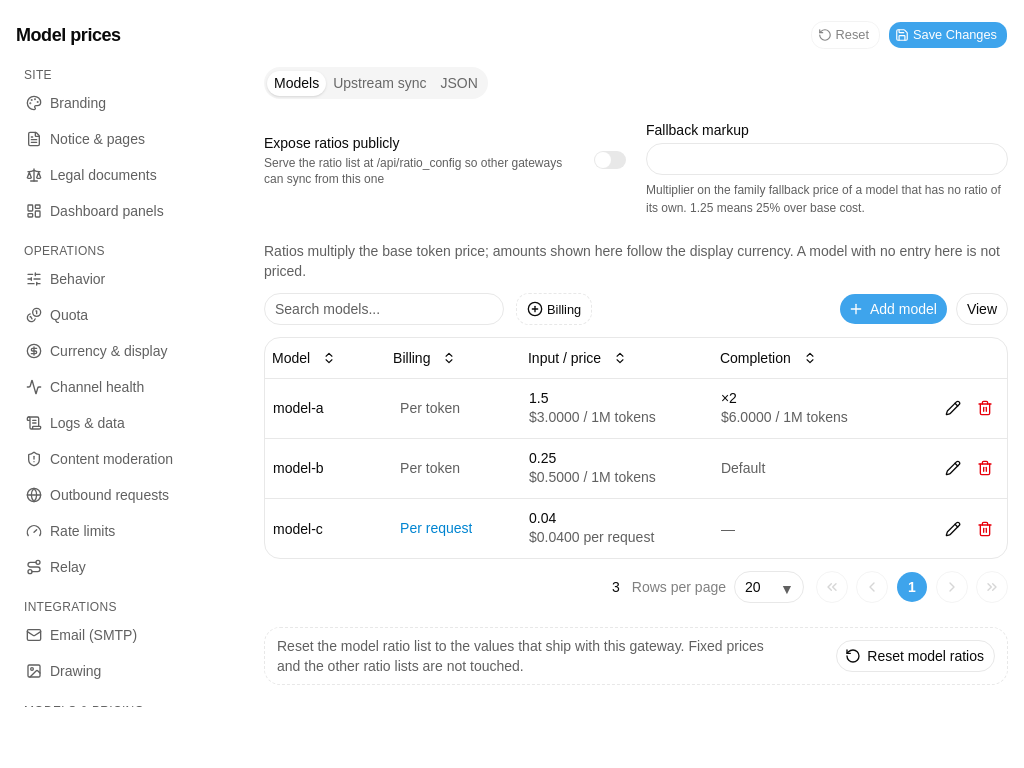
Test: model prices › shows the server refusal when a price write is rejected
Check: the text "$3.0000 / 1M tokens" is shown, box [529,409,656,425]
Click the button named "Delete model-b". click: (985, 468)
box: [971,454,999,482]
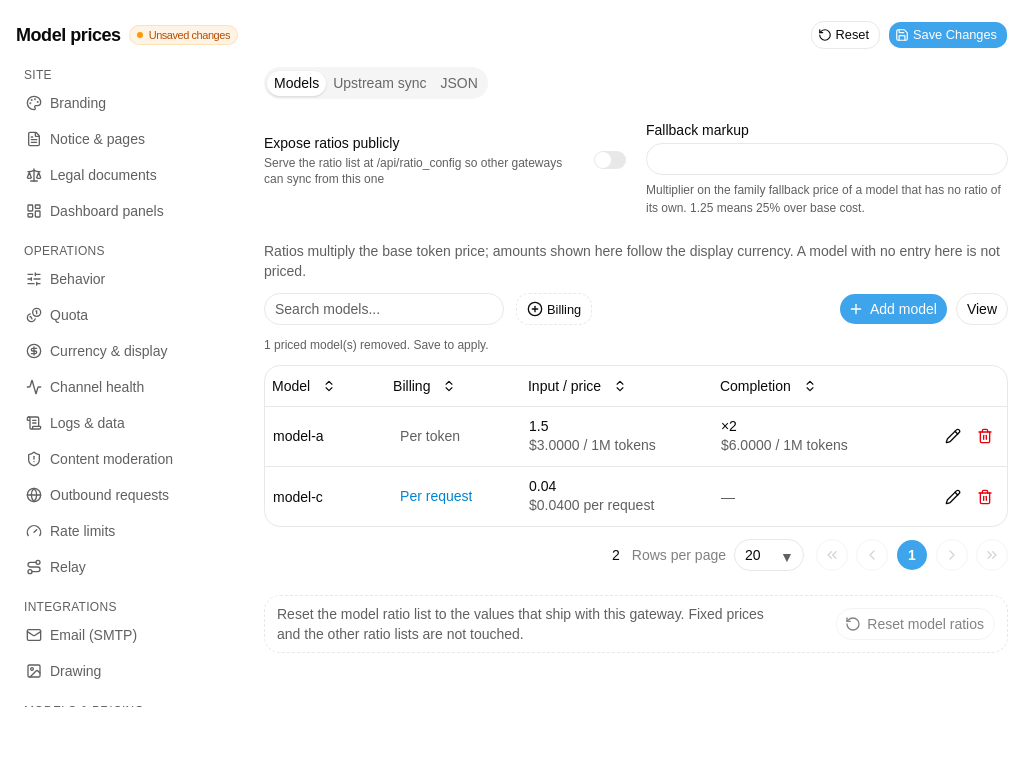
Click the button "Save Changes". click: (948, 35)
box: [888,21,1008,49]
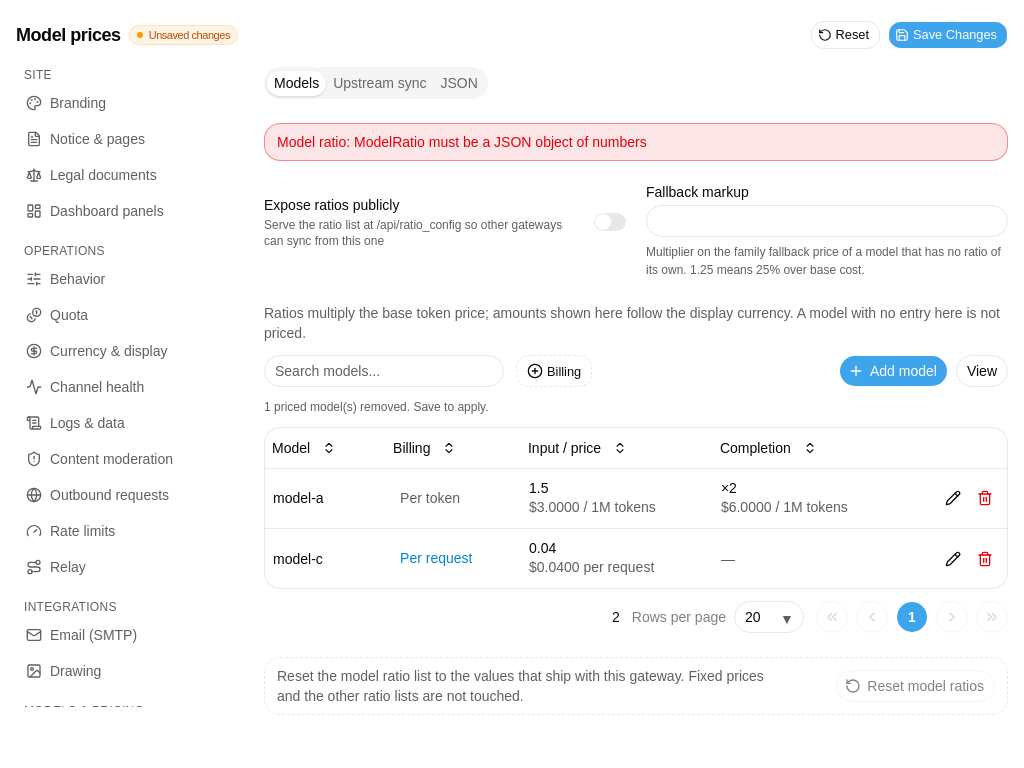
Check: the list item "Model ratio: ModelRatio must be a JSON object of numbers" is shown, box [277,134,647,150]
